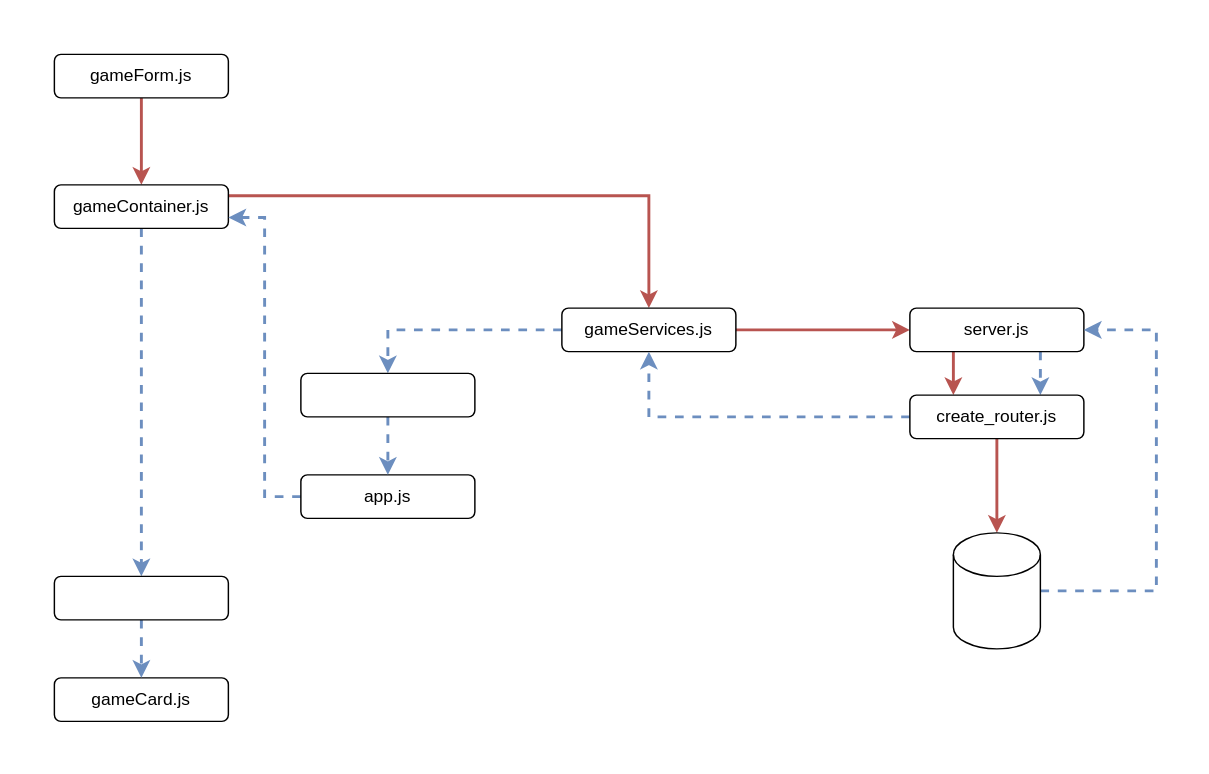
This 1209x774 diagram has some shape labels left out. The centre of each missing label's shape, as x and y in pixels:
db: (996,590)
gamesGrid.js: (140,597)
index.js: (387,394)
